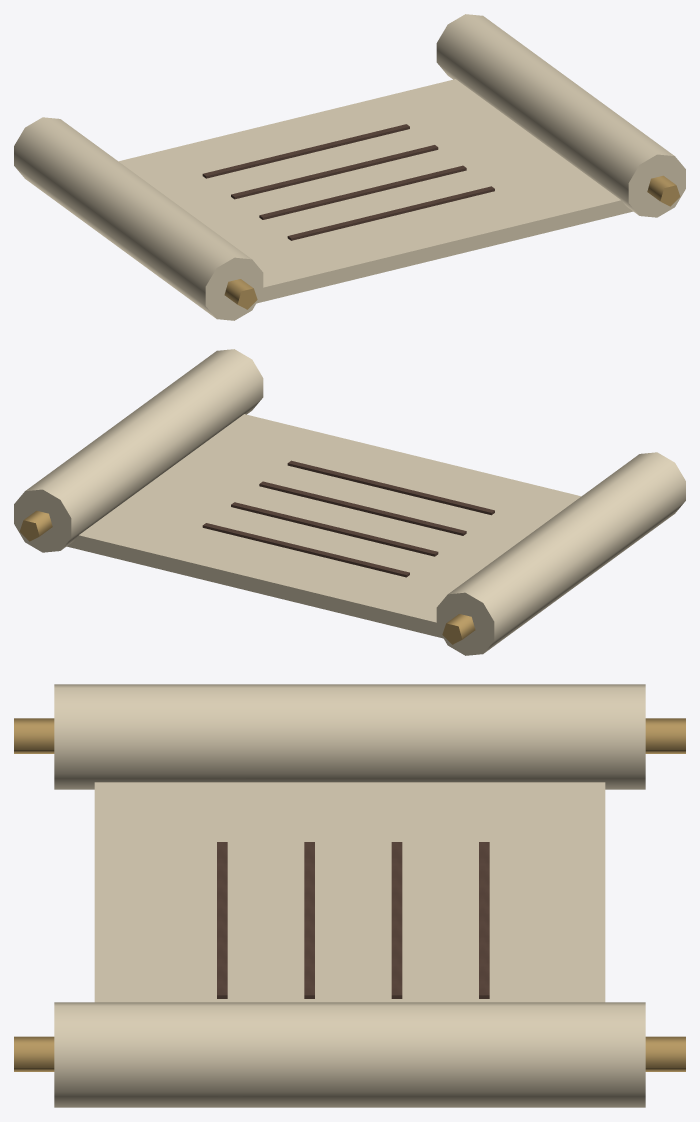
The model's file is enchanted-scroll.glb.
The picture shows the model from 3 angles, top to bottom: view 1: azimuth 30°, elevation 25°; view 2: azimuth 150°, elevation 25°; view 3: azimuth 270°, elevation 25°; orthographic projection. The views are drawn at different scales.
Visible parts, largest first — view 1: EnchantedScroll_paper, EnchantedScroll_wood, EnchantedScroll_gold; view 2: EnchantedScroll_paper, EnchantedScroll_wood, EnchantedScroll_gold; view 3: EnchantedScroll_paper, EnchantedScroll_wood, EnchantedScroll_gold.
Part boxes in pixels (x1,y1,x2,y2): EnchantedScroll_paper: (14, 14, 685, 320); EnchantedScroll_wood: (202, 124, 494, 240); EnchantedScroll_gold: (224, 175, 680, 309); EnchantedScroll_paper: (14, 349, 685, 655); EnchantedScroll_wood: (202, 460, 494, 577); EnchantedScroll_gold: (19, 510, 475, 644); EnchantedScroll_paper: (54, 684, 645, 1107); EnchantedScroll_wood: (217, 842, 489, 998); EnchantedScroll_gold: (14, 718, 685, 1071).
Size of the model in its own units: 0.6361 by 0.081 by 0.5.
Materials: 3 (1 with a texture image).
